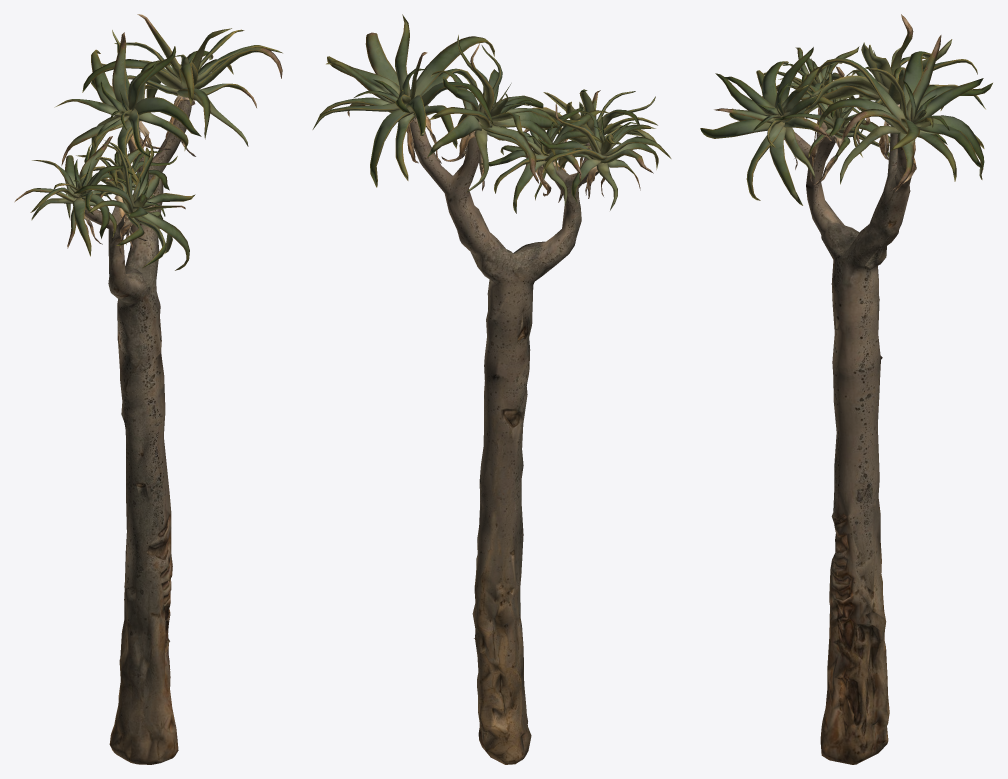
The model's file is quiver_tree_01.glb.
The picture shows the model from 3 angles, left to right: view 1: azimuth 30°, elevation 25°; view 2: azimuth 150°, elevation 25°; view 3: azimuth 270°, elevation 25°; orthographic projection. The views are drawn at different scales.
Parts seen in each view (by area): view 1: quiver_tree_01; view 2: quiver_tree_01; view 3: quiver_tree_01.
Part boxes in pixels (left/top/right/bottom): quiver_tree_01: left=14, top=14, right=282, bottom=764; quiver_tree_01: left=312, top=14, right=671, bottom=764; quiver_tree_01: left=700, top=14, right=992, bottom=764.
Size of the model in its own units: 1.18 by 2.72 by 0.9676.
Materials: 2 (2 with a texture image).
